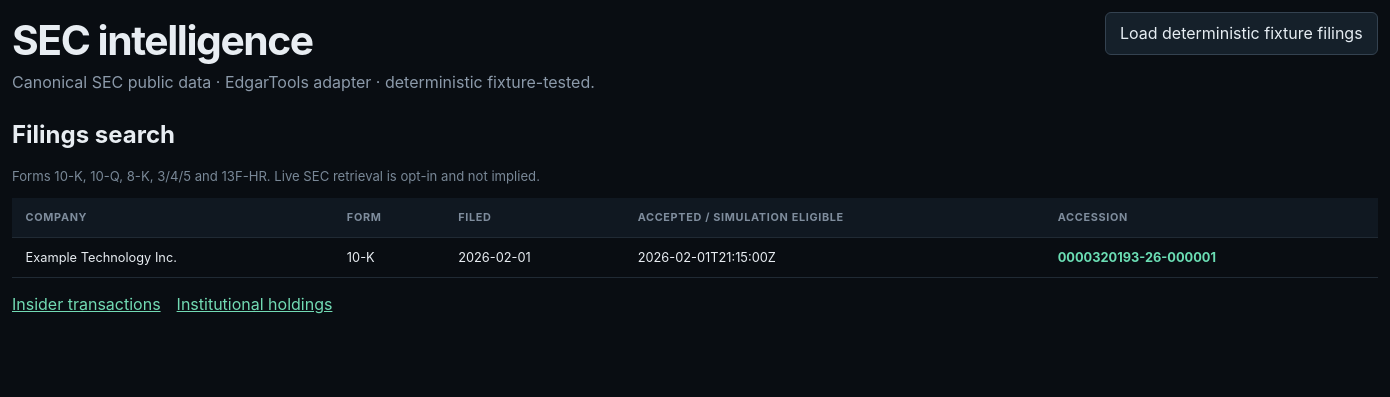
Test case: Sprint 6 upstream integration workflows › loads and labels deterministic SEC filings
The width and height of the screenshot is (1390, 397).
expect the link "0000320193-26-000001" is shown: met, box top-left (1058, 250), bottom-right (1216, 265)
Click the button "Load deterministic fixture filings". click: (1241, 33)
box: top-left (1104, 12), bottom-right (1378, 55)
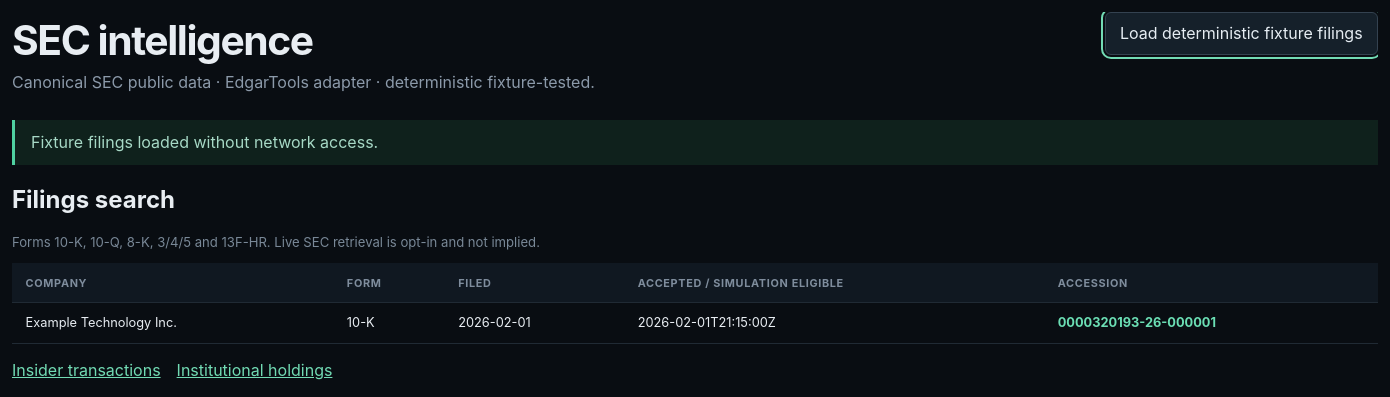
expect the text "Fixture filings loaded without network access." is shown: met, box top-left (12, 120), bottom-right (1378, 165)
